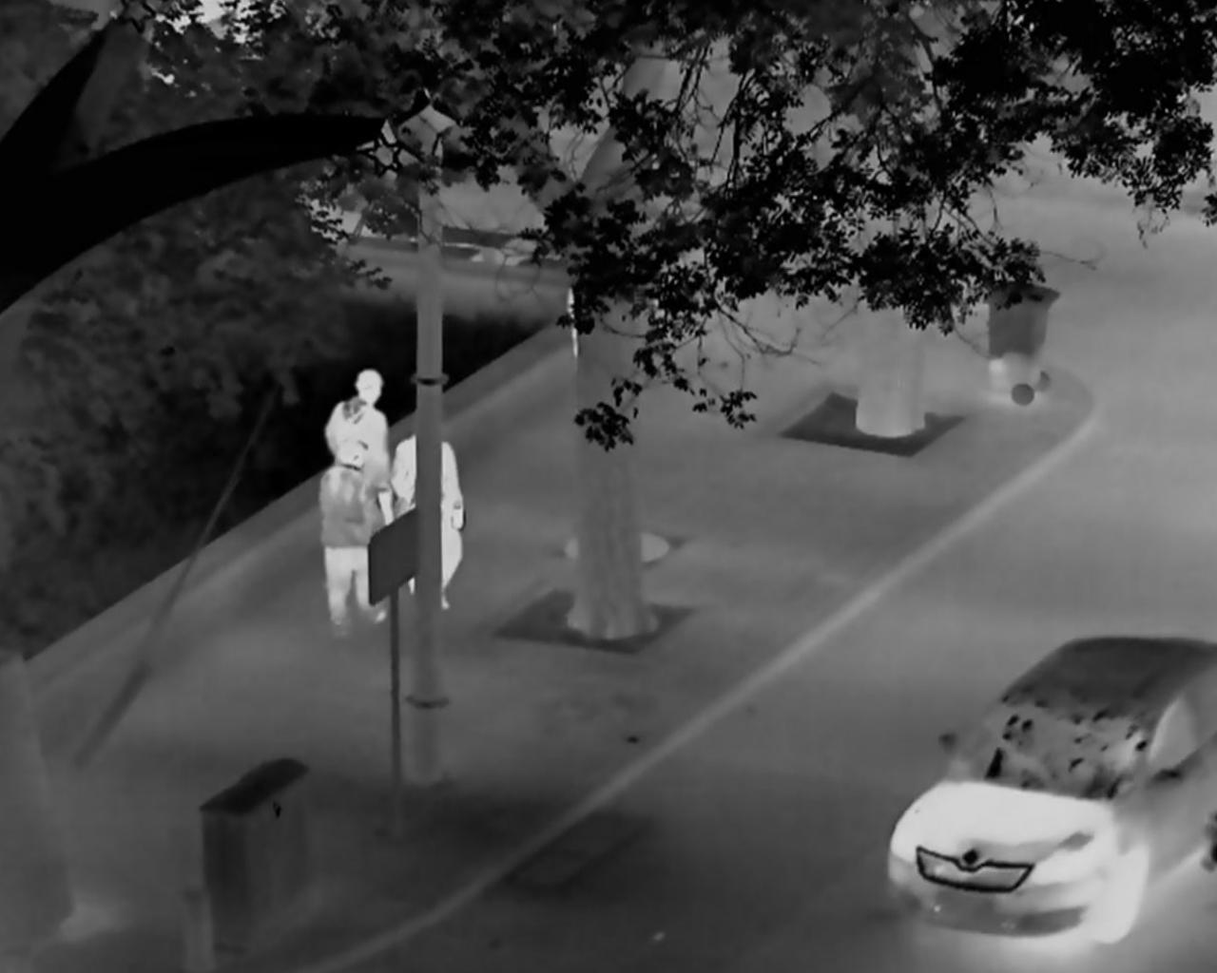person: (318, 439, 388, 627), (393, 428, 463, 609), (323, 367, 392, 505)
